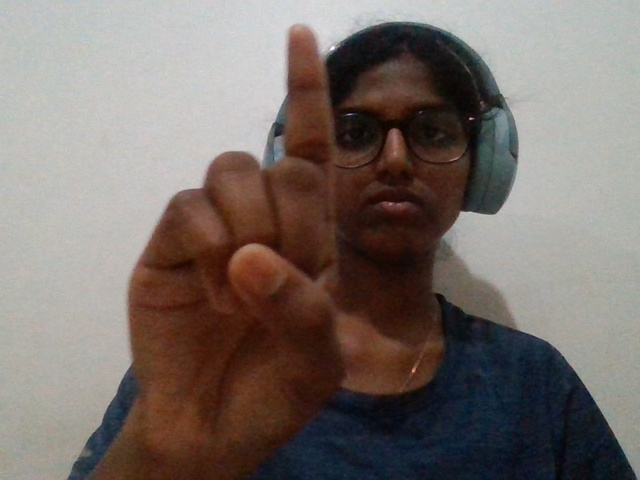D: (90, 20, 381, 480)
